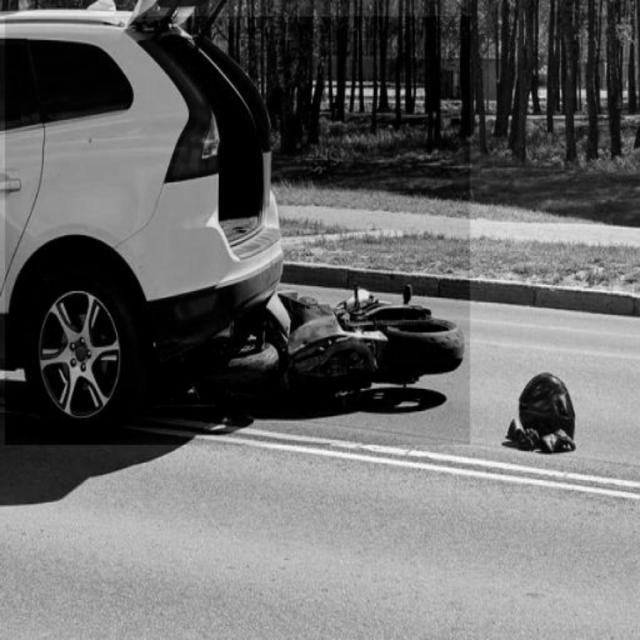accident: (5, 17, 469, 445)
